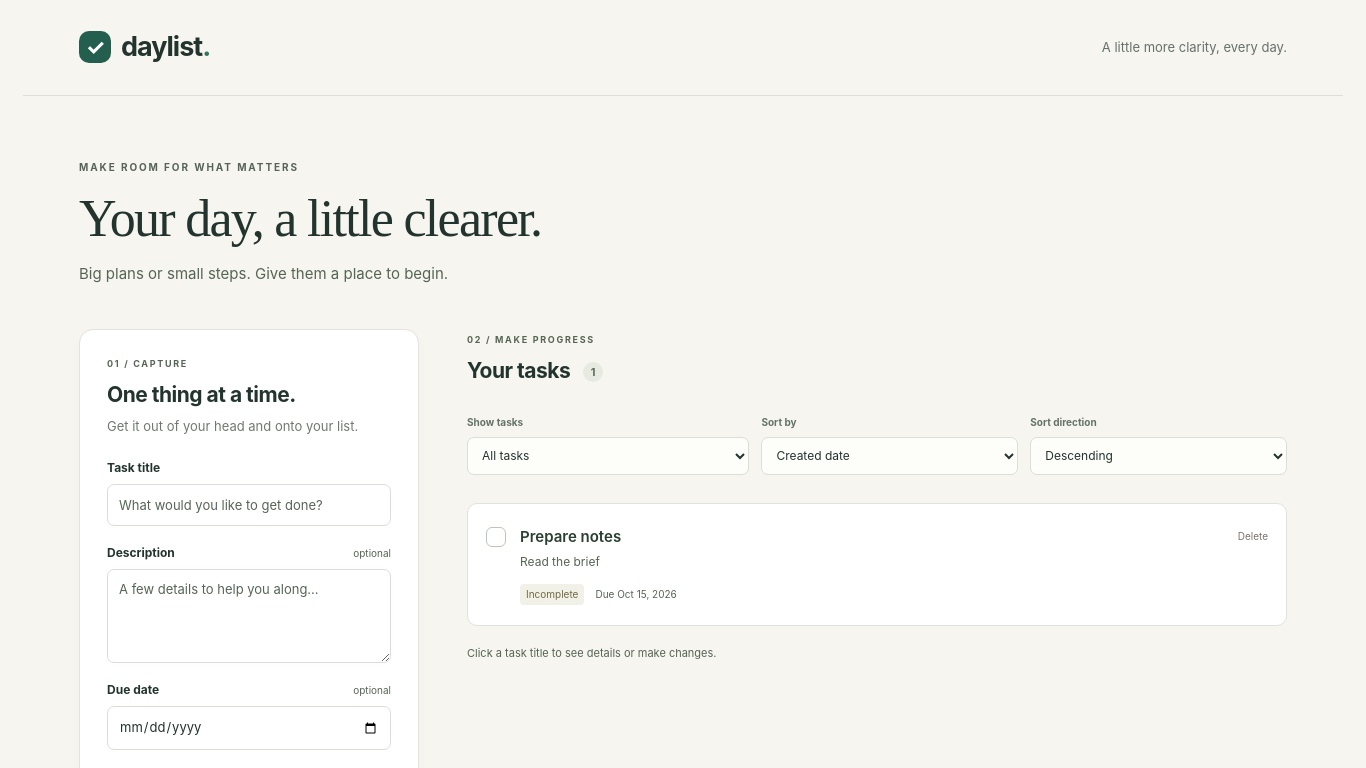
Test case: opens details, clears optional fields, and saves edits
The image size is (1366, 768).
Click the button "Prepare notes" at (571, 537), box x1=520 y1=526 x2=621 y2=548
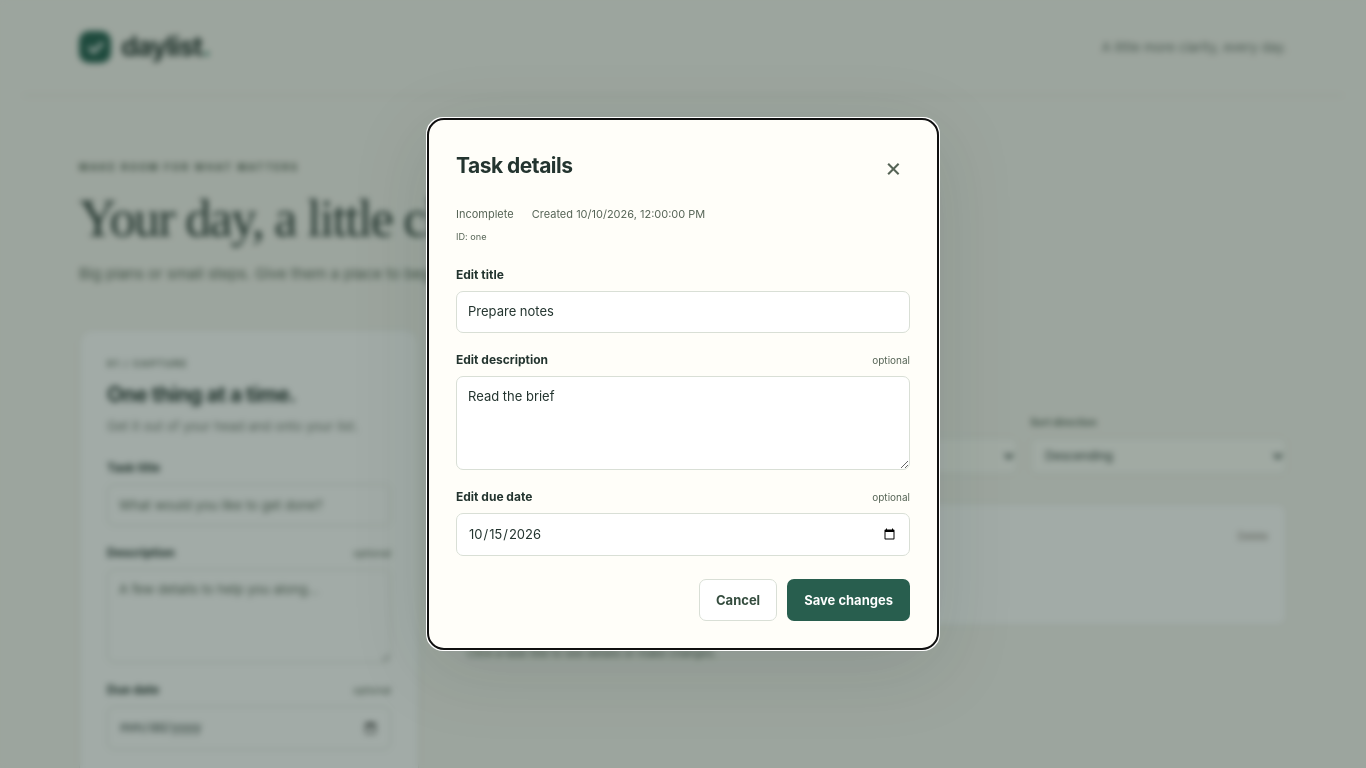
Result: the dialog is shown at x1=428 y1=119 x2=938 y2=649
Replace the text in the field labelled "Edit title" with "Updated notes" at (683, 312), box x1=456 y1=291 x2=910 y2=333
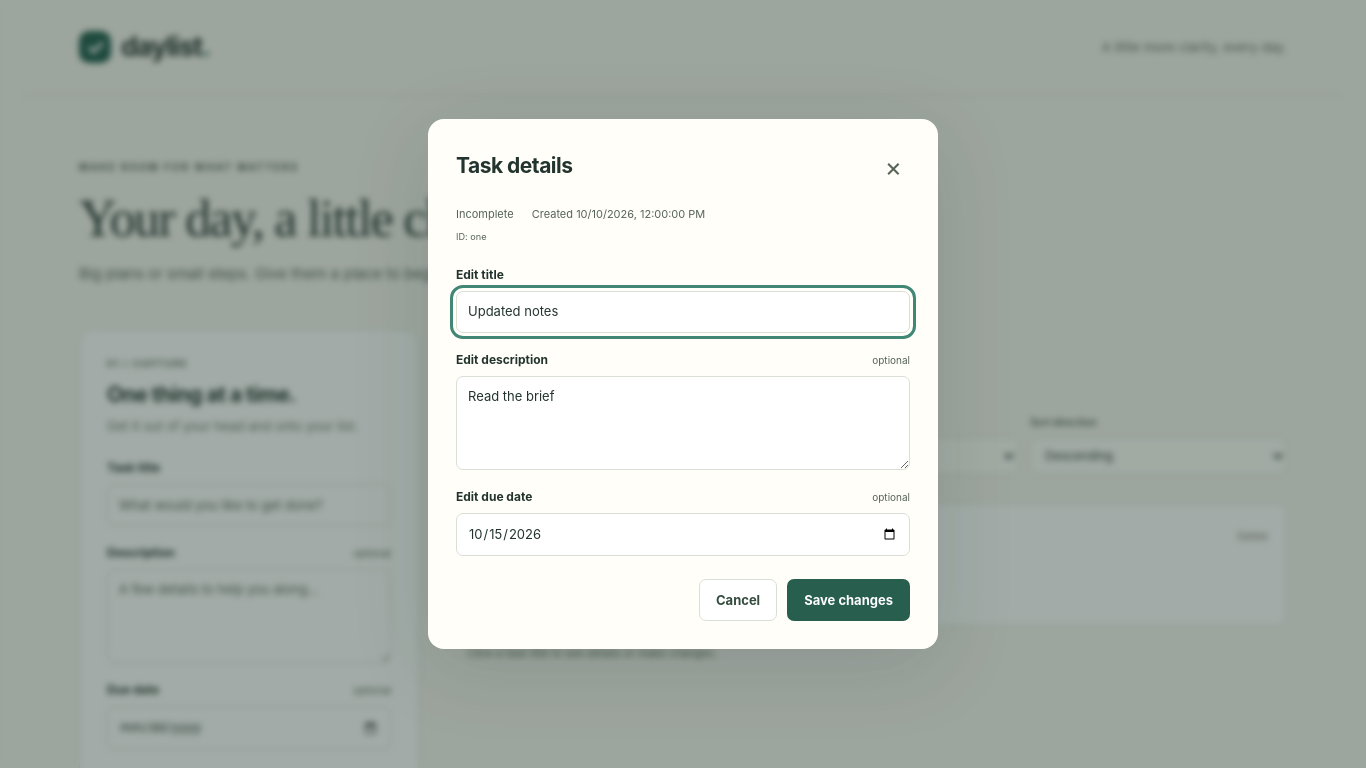
Clear the text box labelled "Edit description" at (683, 423), box x1=456 y1=376 x2=910 y2=470
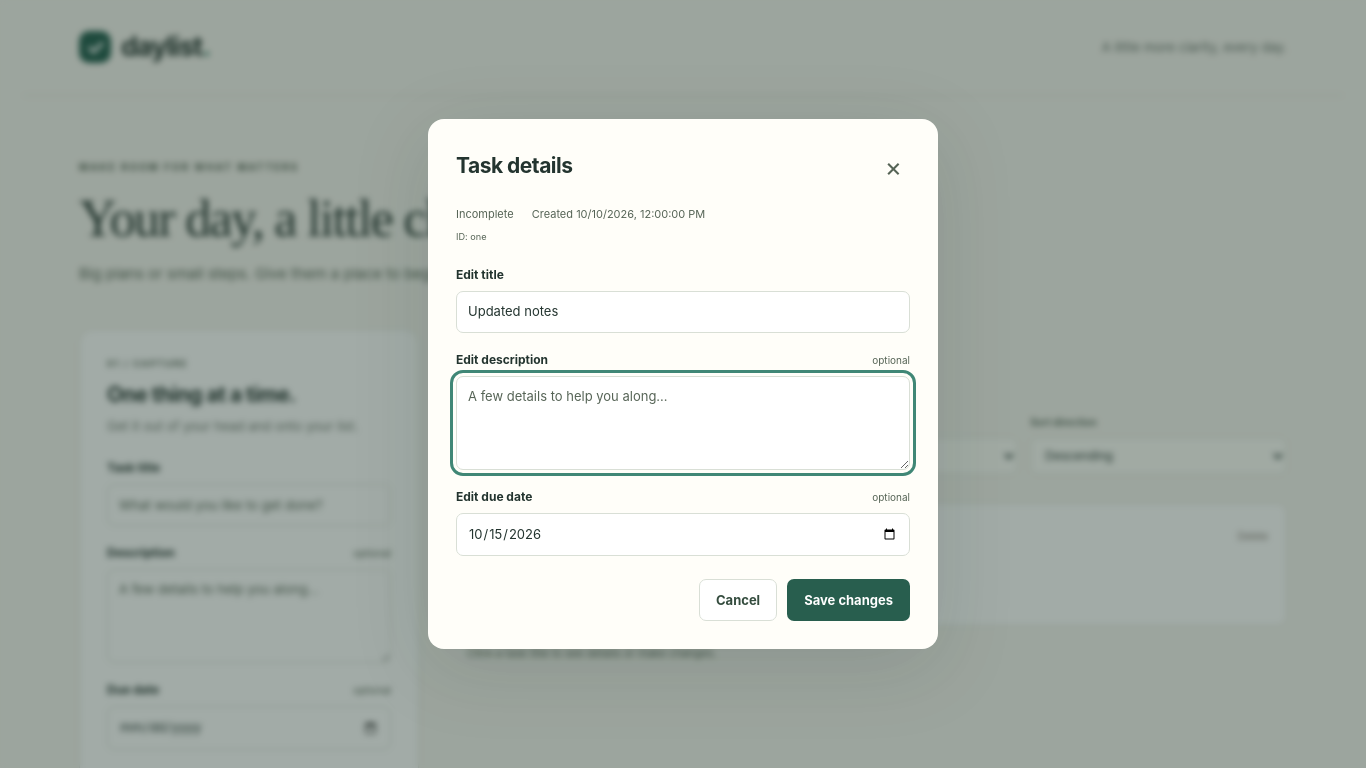
Clear the date field labelled "Edit due date" at (683, 535), box x1=456 y1=513 x2=910 y2=556
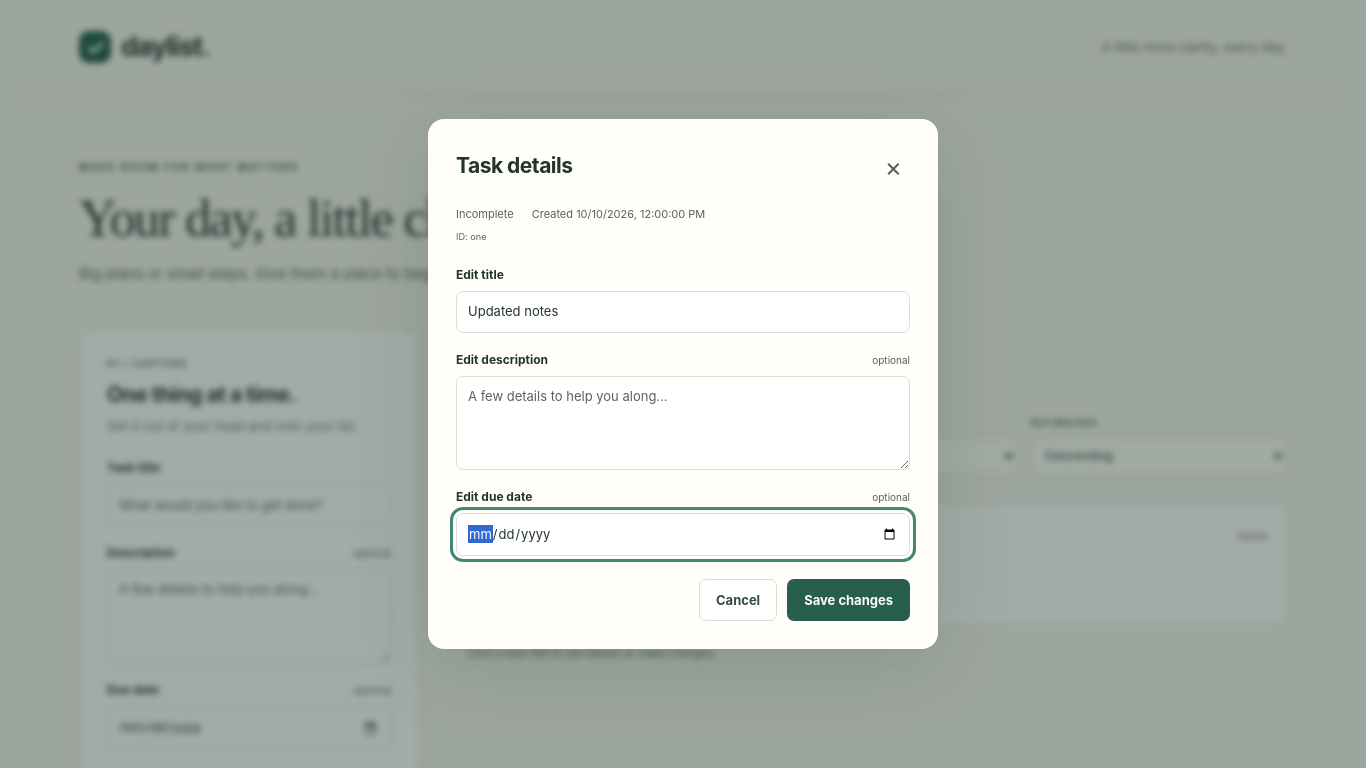
Click the button "Save changes" at (849, 600), box x1=787 y1=579 x2=910 y2=621
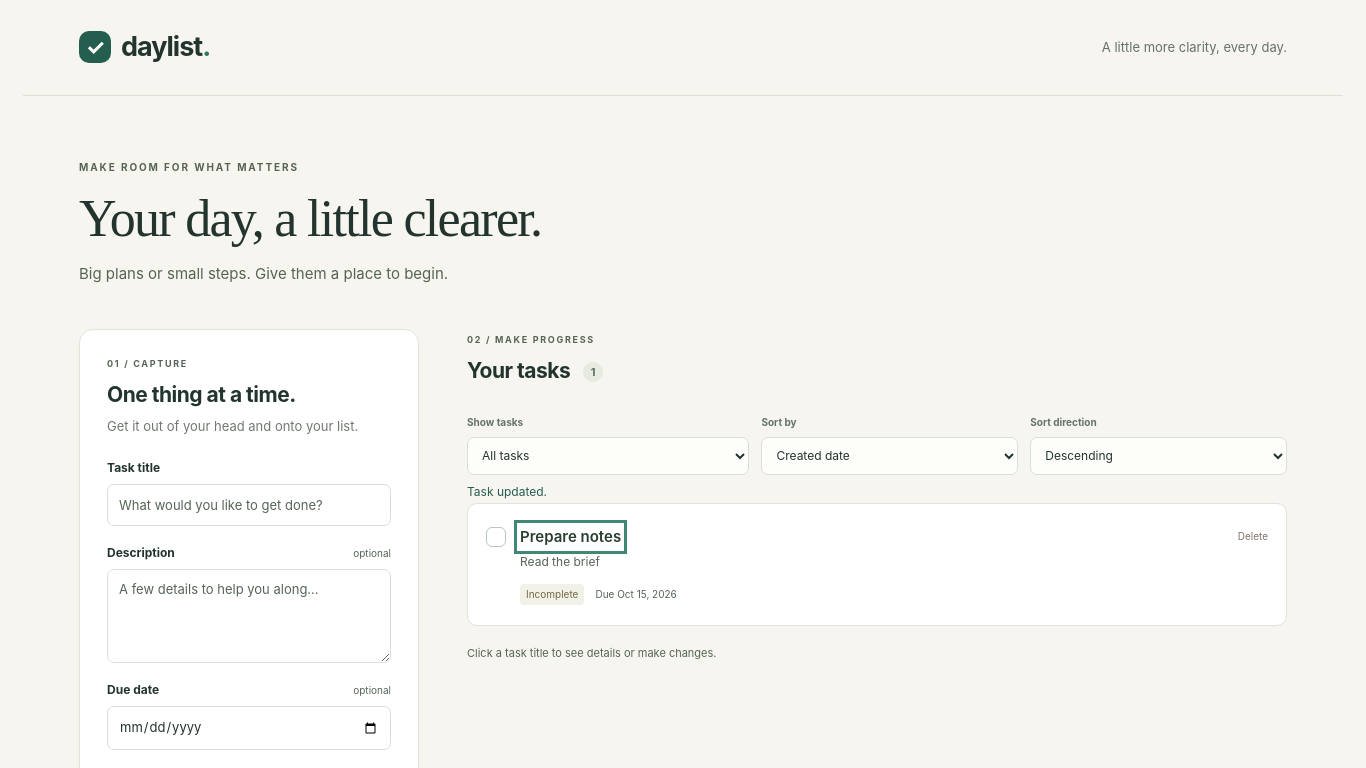
Result: the dialog is gone
